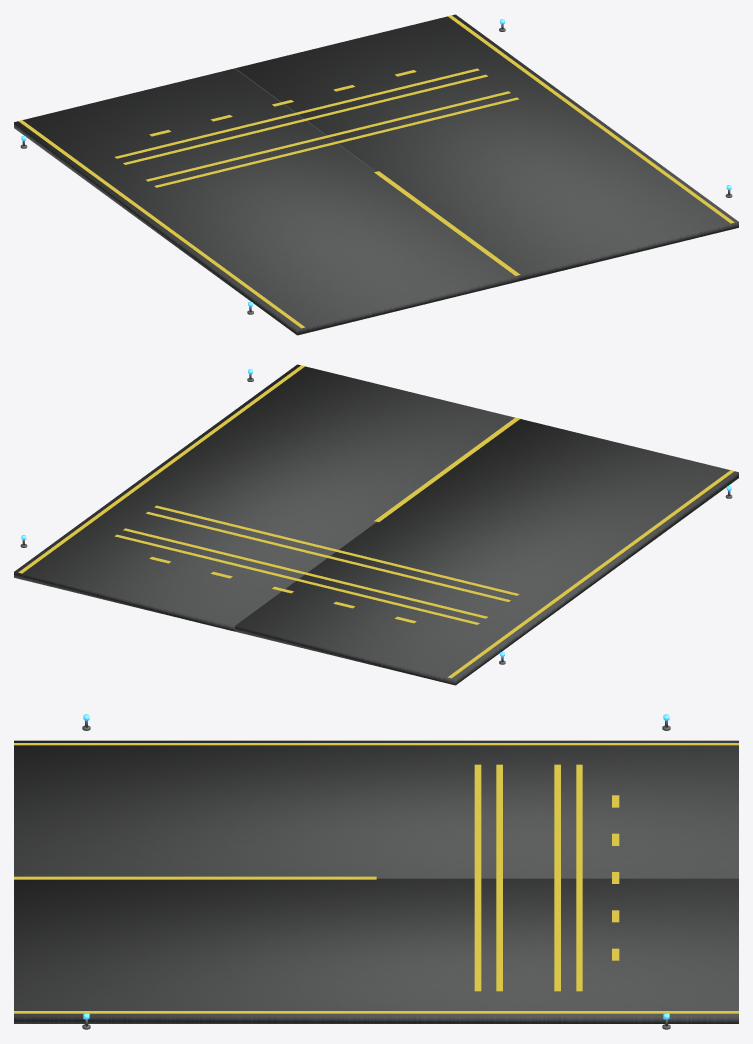
The model's file is PZ_Taxiway_HoldShort_18x20m.glb.
3 views of the same model, one above another, from view 1: azimuth 30°, elevation 25°; view 2: azimuth 150°, elevation 25°; view 3: azimuth 270°, elevation 25° (orthographic). The views are drawn at different scales.
Parts seen in each view (by area): view 1: TWY_Asphalt_West_Half, TWY_Asphalt_East_Half, TWY_YellowEdge_1, TWY_YellowEdge_-1, TWY_HoldLine_0, TWY_HoldLine_1, TWY_HoldLine_3, TWY_HoldLine_2, TWY_YellowCenterline_BeforeHold; view 2: TWY_Asphalt_West_Half, TWY_Asphalt_East_Half, TWY_YellowEdge_1, TWY_YellowEdge_-1, TWY_HoldLine_2, TWY_HoldLine_1, TWY_HoldLine_3, TWY_HoldLine_0, TWY_YellowCenterline_BeforeHold; view 3: TWY_Asphalt_East_Half, TWY_Asphalt_West_Half, TWY_YellowEdge_-1, TWY_YellowEdge_1, TWY_HoldLine_0, TWY_HoldLine_1, TWY_HoldLine_2, TWY_HoldLine_3, TWY_YellowCenterline_BeforeHold.
Boxes of the visible parts, x1,y1,x2,y2 form: TWY_Asphalt_West_Half: [14, 68, 517, 335]; TWY_Asphalt_East_Half: [235, 14, 738, 281]; TWY_YellowEdge_1: [447, 15, 734, 223]; TWY_YellowEdge_-1: [18, 120, 304, 328]; TWY_HoldLine_0: [154, 97, 519, 187]; TWY_HoldLine_1: [146, 91, 510, 181]; TWY_HoldLine_3: [115, 68, 479, 158]; TWY_HoldLine_2: [123, 74, 487, 164]; TWY_YellowCenterline_BeforeHold: [374, 171, 520, 275]; TWY_Asphalt_West_Half: [235, 419, 738, 685]; TWY_Asphalt_East_Half: [14, 364, 514, 631]; TWY_YellowEdge_1: [18, 365, 305, 573]; TWY_YellowEdge_-1: [448, 470, 734, 678]; TWY_HoldLine_2: [123, 528, 487, 618]; TWY_HoldLine_1: [146, 511, 510, 601]; TWY_HoldLine_3: [114, 534, 479, 624]; TWY_HoldLine_0: [154, 505, 519, 595]; TWY_YellowCenterline_BeforeHold: [374, 417, 520, 522]; TWY_Asphalt_East_Half: [14, 878, 738, 1023]; TWY_Asphalt_West_Half: [14, 740, 738, 878]; TWY_YellowEdge_-1: [14, 743, 738, 745]; TWY_YellowEdge_1: [14, 1011, 738, 1013]; TWY_HoldLine_0: [474, 764, 481, 991]; TWY_HoldLine_1: [496, 764, 502, 991]; TWY_HoldLine_2: [554, 764, 560, 991]; TWY_HoldLine_3: [576, 764, 582, 991]; TWY_YellowCenterline_BeforeHold: [14, 876, 376, 879].
Bounding box in the file's own units: 19.73 × 0.64 × 20.
Materials: 5 (3 with a texture image).
